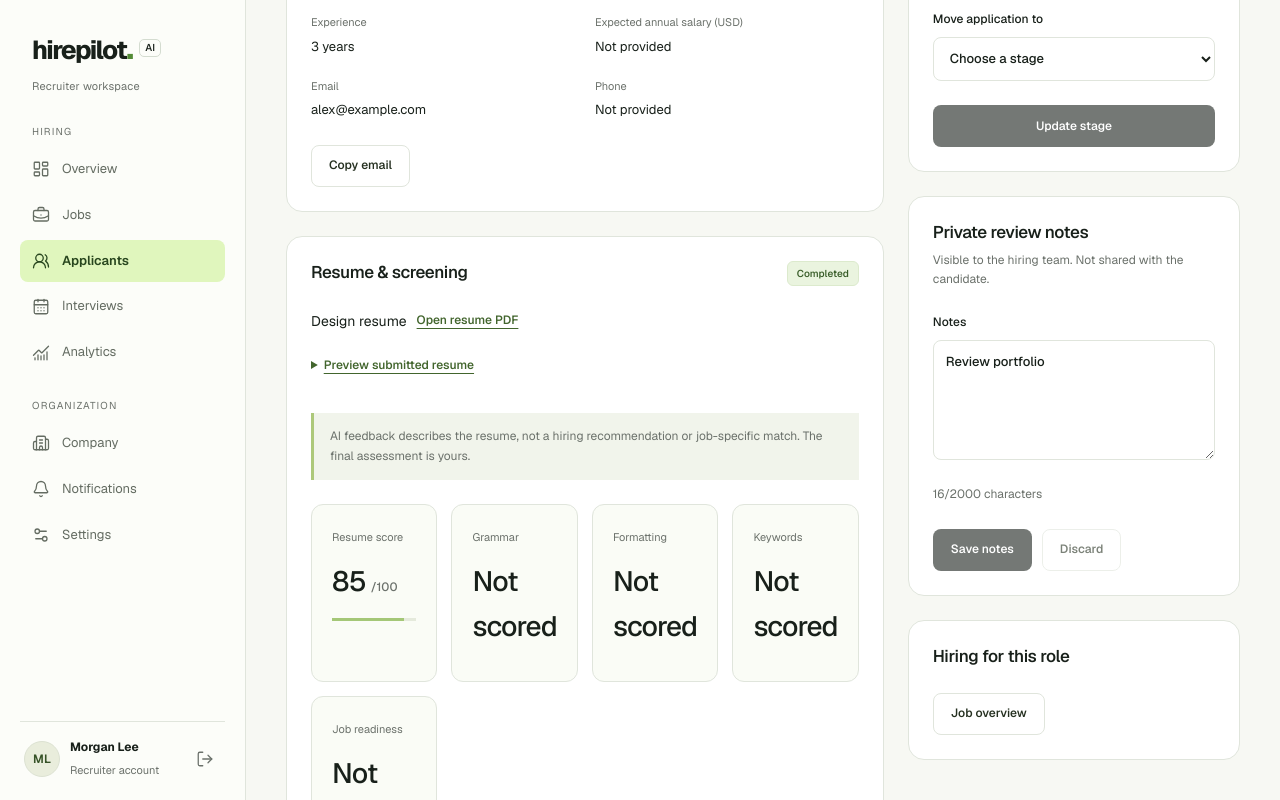
Recruiter product workflows › saves private recruiter notes using the existing API
(page scrolled)
Replace the text in the text box labelled "Notes" with "Discuss research process" at (1074, 400), box [933,340,1215,460]
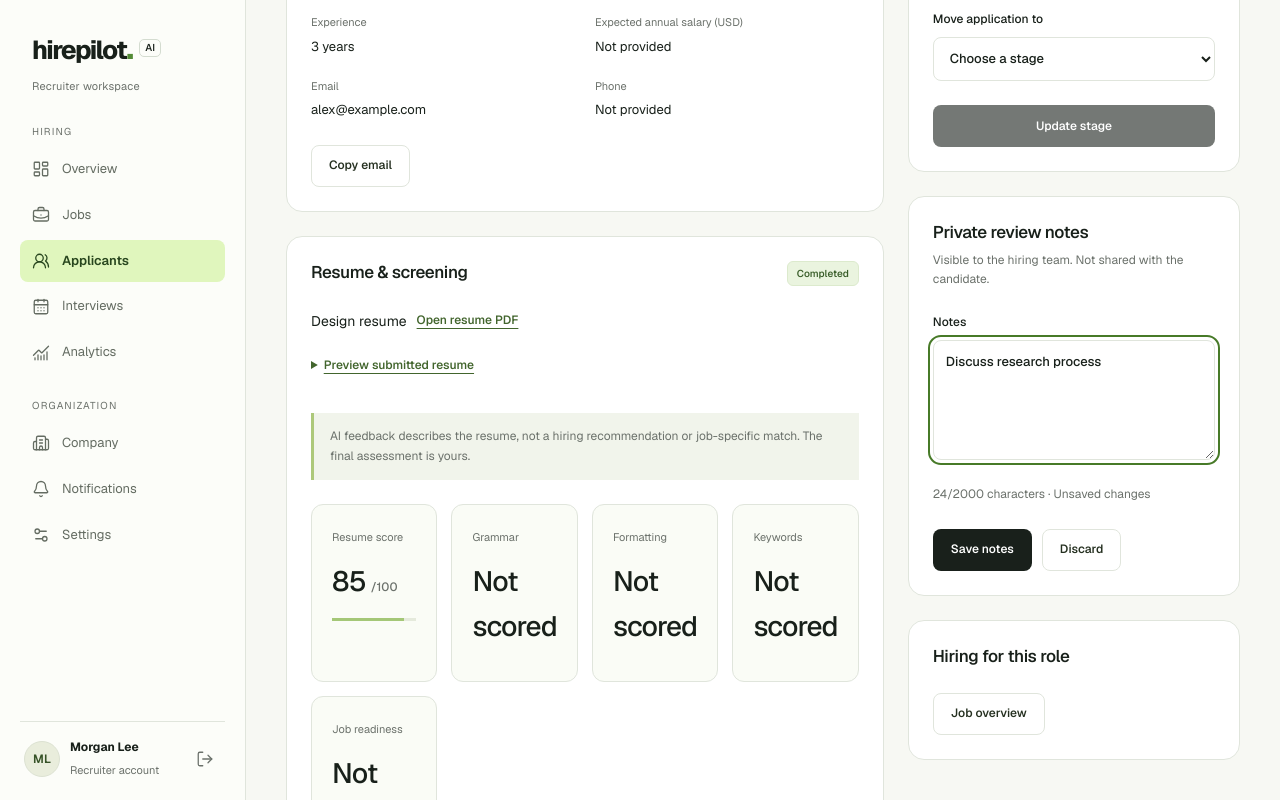
Click the button "Save notes" at (982, 550), box [933,529,1032,571]
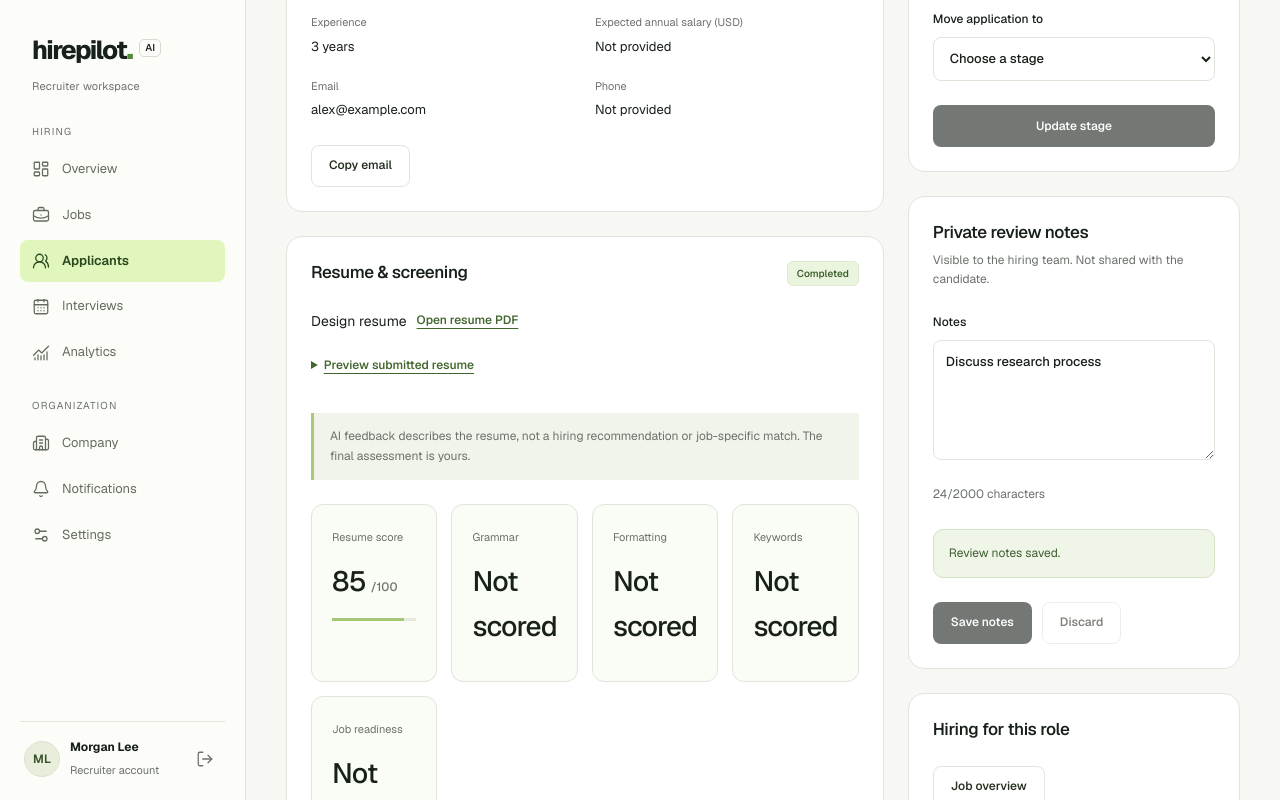
Check: the text "Review notes saved." is shown, box [933,529,1215,578]
